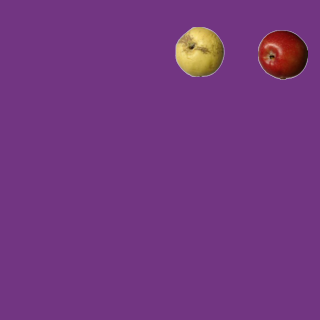Apple Braeburn: (257, 29, 307, 79)
Apple Golden 1: (174, 26, 224, 76)
